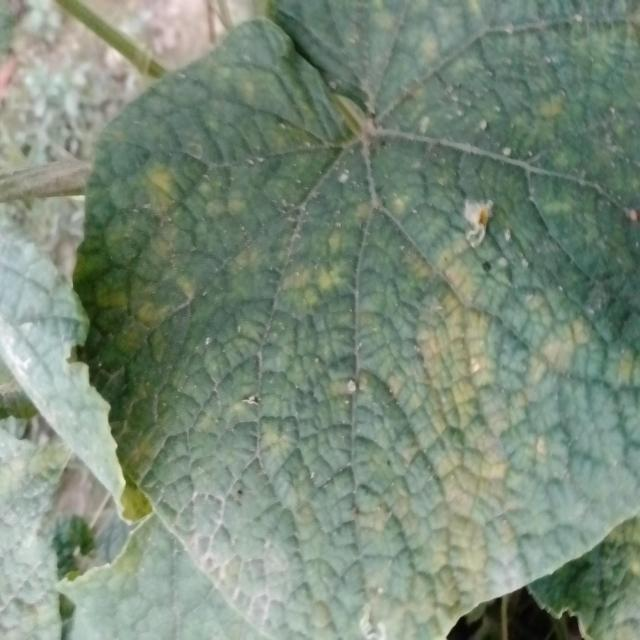cucumber_downy: (93, 90, 598, 622)
